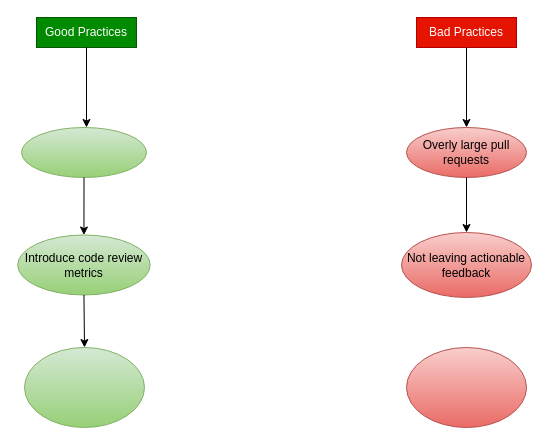
Some shapes in this 549 by 445 pixel diagram are drawn without their labels. Each missing label, with the centre of its shape:
Create a review checklist: pixel 83 152
Don't review more than 200-400 lines of code at a time: pixel 84 387
Rushing review process: pixel 466 387
